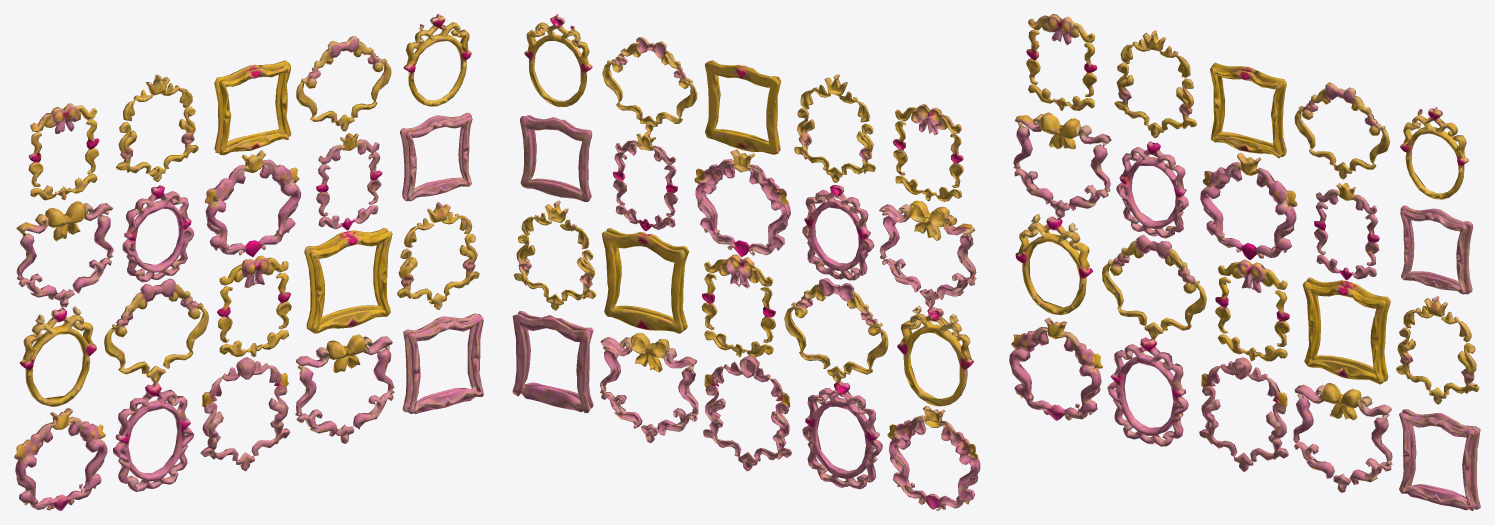
3 renders of one model, left to right at view 1: azimuth 30°, elevation 25°; view 2: azimuth 150°, elevation 25°; view 3: azimuth 330°, elevation 25°, orthographic.
Parts seen in each view (by area): view 1: Mesh 21, Mesh 29, Mesh 38, Mesh 13, Mesh 4, Mesh 1, Mesh 14, Mesh 12, Mesh 10, Mesh 2, Mesh 15, Mesh 39 (+10 smaller); view 2: Mesh 21, Mesh 29, Mesh 38, Mesh 13, Mesh 4, Mesh 1, Mesh 14, Mesh 22, Mesh 12, Mesh 10, Mesh 2, Mesh 15 (+10 smaller); view 3: Mesh 21, Mesh 29, Mesh 38, Mesh 13, Mesh 4, Mesh 1, Mesh 12, Mesh 14, Mesh 10, Mesh 2, Mesh 15, Mesh 39 (+10 smaller).
Part boxes in pixels (x1,y1,x2,y2): Mesh 21: [295, 334, 394, 443]; Mesh 29: [402, 313, 483, 414]; Mesh 38: [16, 201, 113, 307]; Mesh 13: [205, 150, 301, 257]; Mesh 4: [113, 382, 193, 491]; Mesh 1: [14, 408, 107, 510]; Mesh 14: [214, 60, 291, 155]; Mesh 12: [200, 357, 290, 471]; Mesh 10: [122, 185, 194, 282]; Mesh 2: [104, 278, 208, 382]; Mesh 15: [217, 255, 291, 356]; Mesh 39: [19, 306, 96, 406]; Mesh 21: [600, 333, 698, 442]; Mesh 29: [512, 311, 593, 413]; Mesh 38: [879, 200, 976, 307]; Mesh 13: [694, 149, 790, 257]; Mesh 4: [802, 381, 882, 489]; Mesh 1: [887, 406, 980, 510]; Mesh 14: [704, 60, 781, 154]; Mesh 22: [602, 231, 685, 333]; Mesh 12: [703, 355, 791, 471]; Mesh 10: [802, 185, 874, 280]; Mesh 2: [784, 278, 888, 382]; Mesh 15: [701, 254, 775, 357]; Mesh 21: [1293, 383, 1392, 492]; Mesh 29: [1399, 409, 1480, 510]; Mesh 38: [1013, 112, 1111, 218]; Mesh 13: [1200, 153, 1297, 259]; Mesh 4: [1107, 337, 1188, 446]; Mesh 1: [1009, 317, 1102, 420]; Mesh 12: [1199, 357, 1288, 471]; Mesh 14: [1210, 62, 1286, 158]; Mesh 10: [1116, 141, 1188, 238]; Mesh 2: [1102, 235, 1206, 339]; Mesh 15: [1215, 259, 1289, 361]; Mesh 39: [1015, 214, 1092, 314].
Bounding box in the file's own units: 1.41 × 1.21 × 0.0491.
22 materials, 22 textured.
